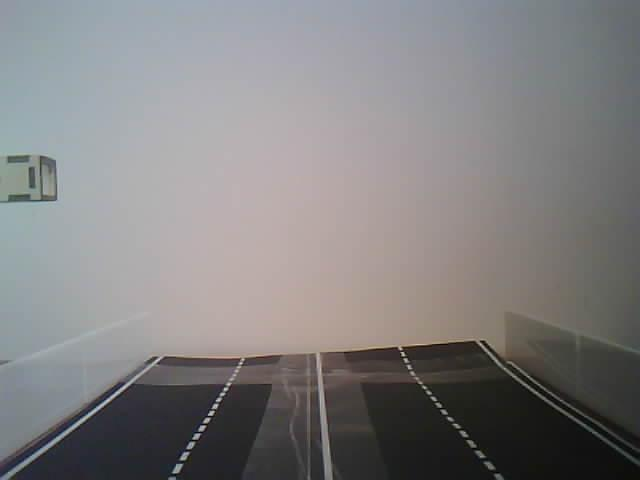no: (0, 151, 72, 206)
